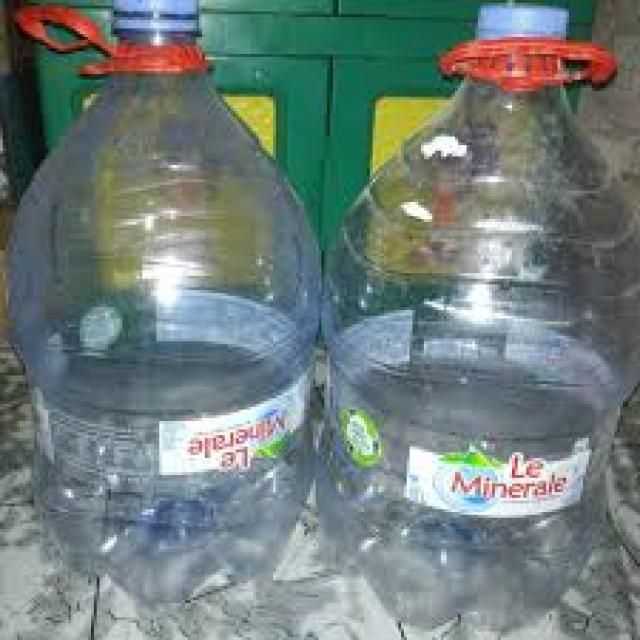Galon: (315, 0, 637, 634), (0, 0, 321, 603)
